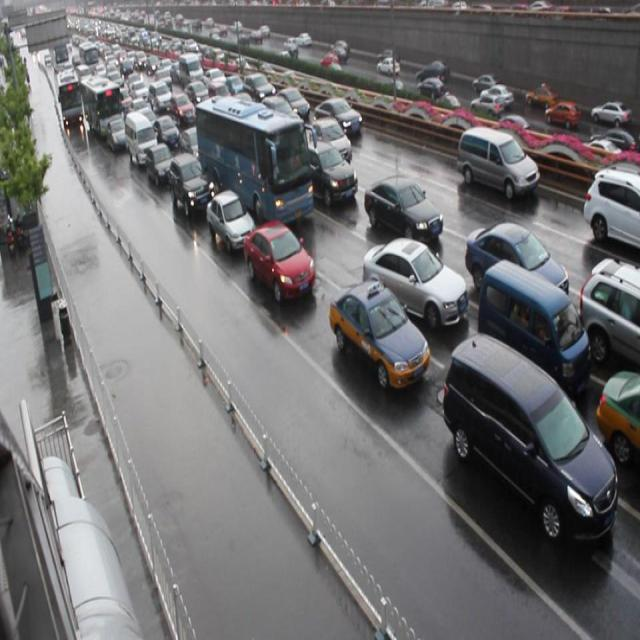car: (329, 280, 429, 392), (362, 239, 466, 331), (464, 224, 567, 309), (579, 259, 640, 372), (242, 224, 314, 303), (364, 178, 441, 245), (580, 166, 640, 251), (592, 372, 640, 468), (304, 144, 358, 207), (205, 190, 256, 253), (168, 154, 213, 218), (307, 119, 352, 170), (314, 96, 360, 137), (145, 146, 175, 190), (275, 85, 309, 120), (179, 129, 207, 164), (153, 118, 179, 152)
truck: (442, 333, 616, 548), (477, 262, 589, 399), (455, 125, 539, 201)
van: (195, 96, 312, 228)
